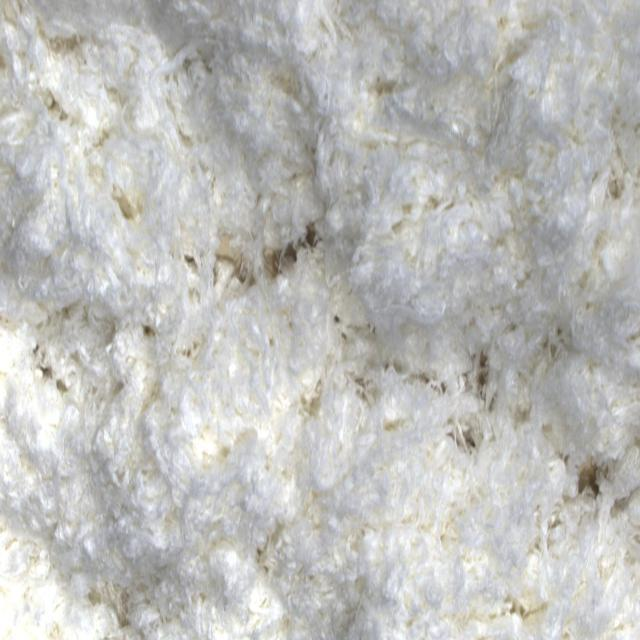dust: (249, 202, 325, 293), (578, 446, 619, 513), (212, 230, 248, 292)
